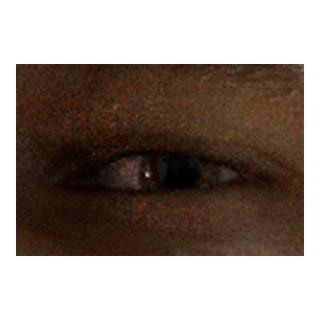pupil: (161, 154, 199, 192)
